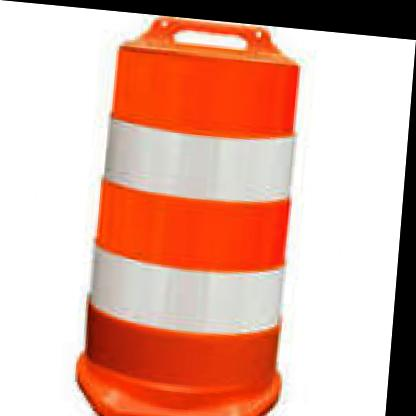obstacle: (50, 20, 312, 416)
